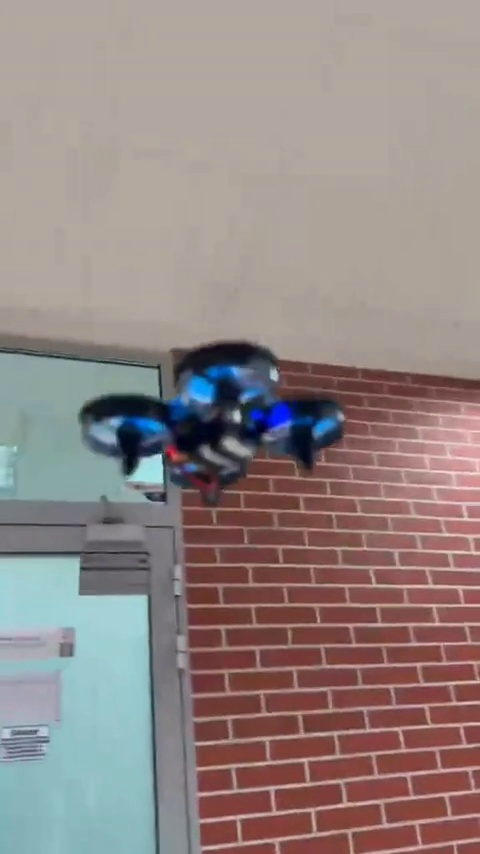drone: (80, 342, 337, 499)
